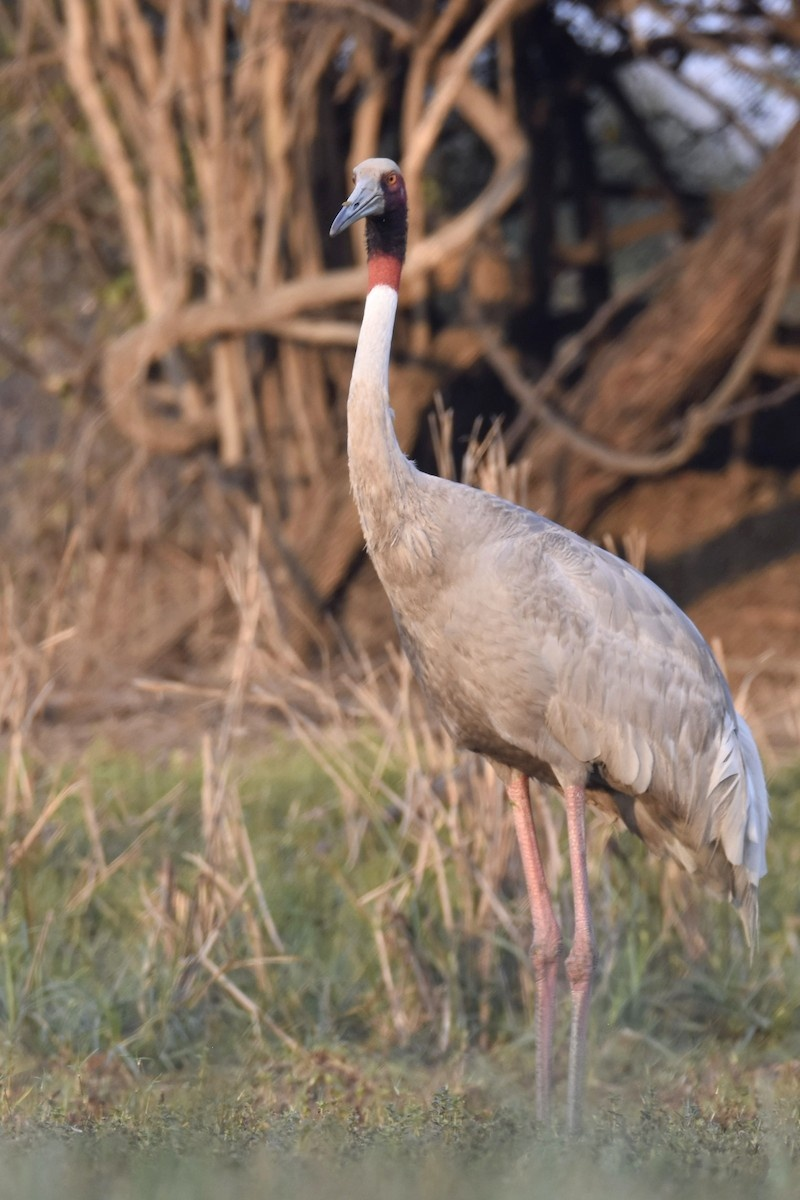crane: (313, 138, 765, 1122)
